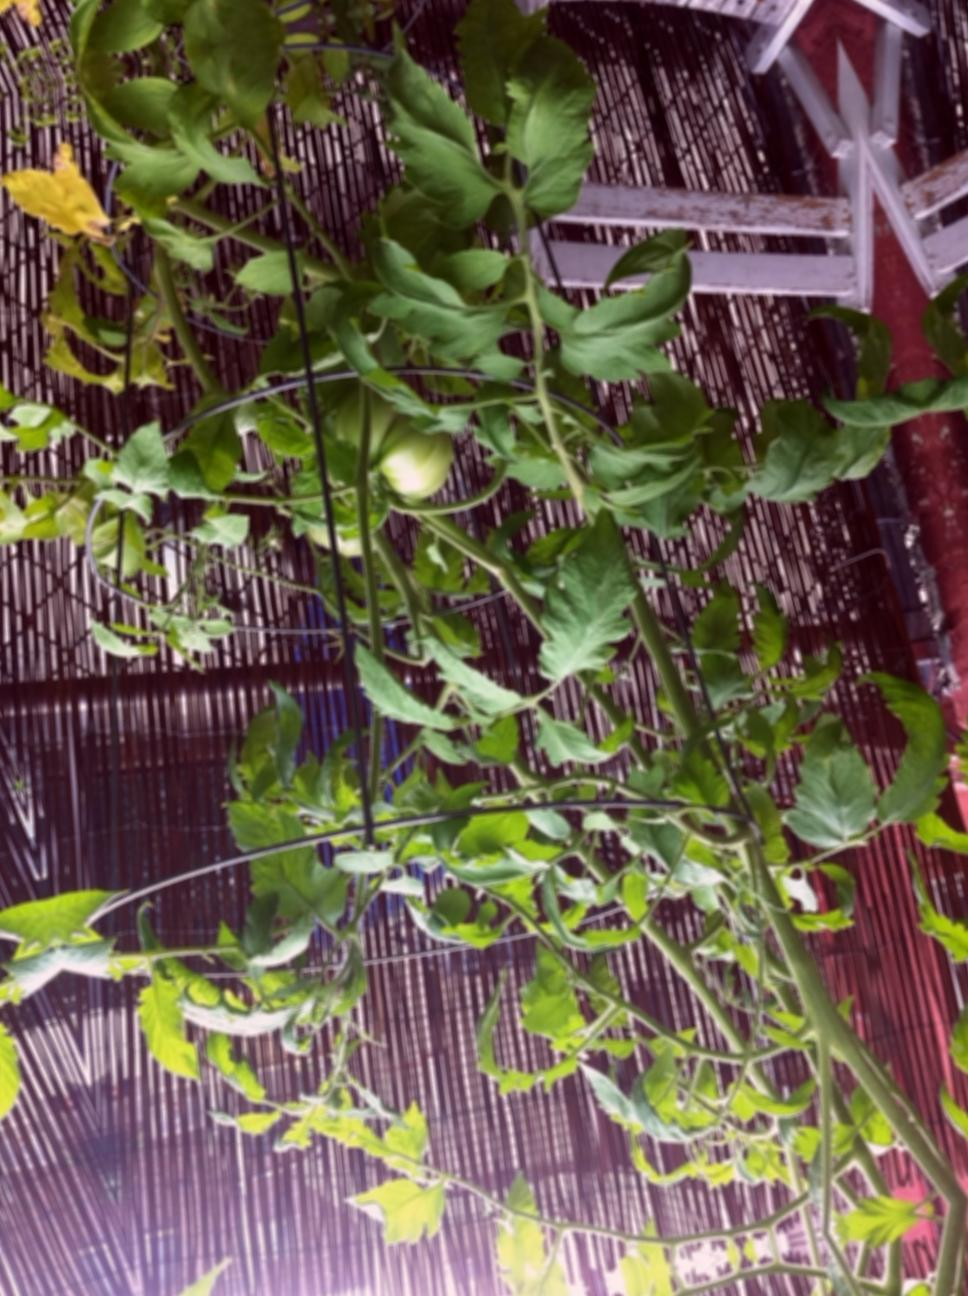Tomato leaf: (498, 520, 662, 701), (748, 680, 889, 861), (204, 770, 341, 945), (483, 26, 605, 176), (551, 264, 707, 380), (347, 616, 475, 757), (379, 101, 493, 219)
